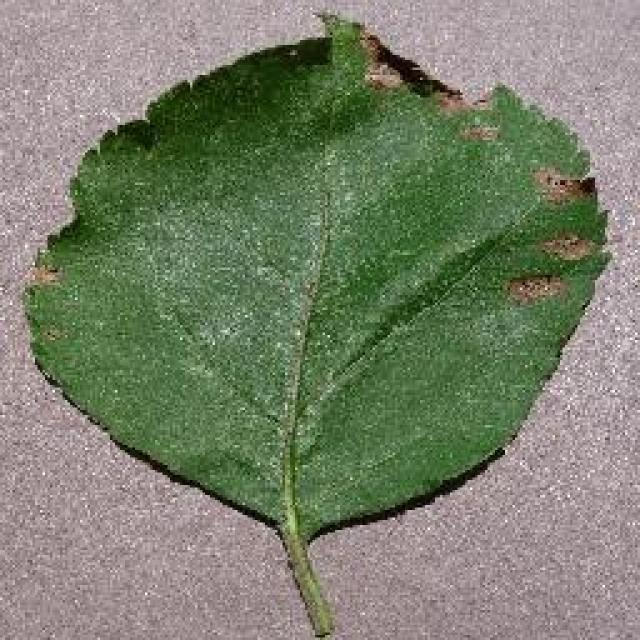Black_rot: (20, 10, 612, 638)
